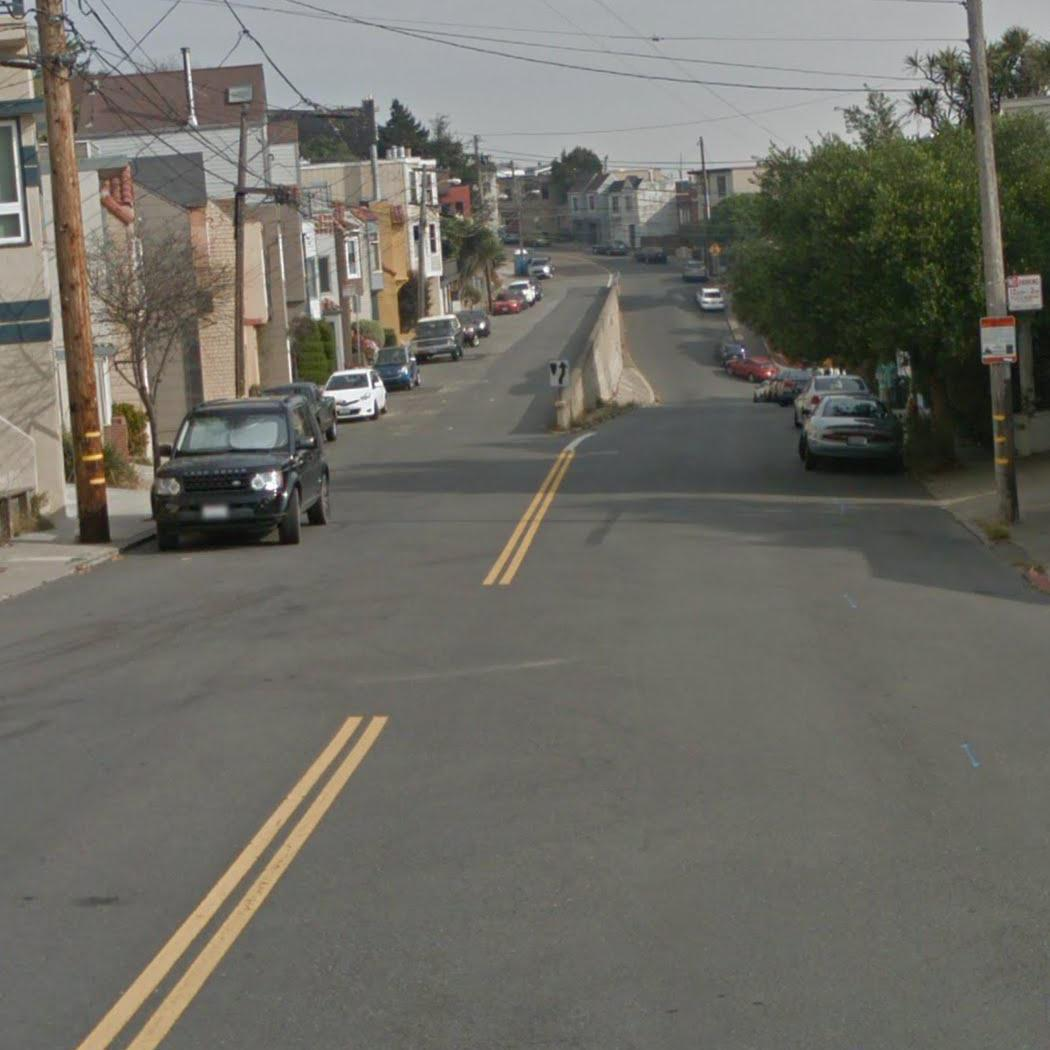No Parking: (1005, 274, 1043, 312)
